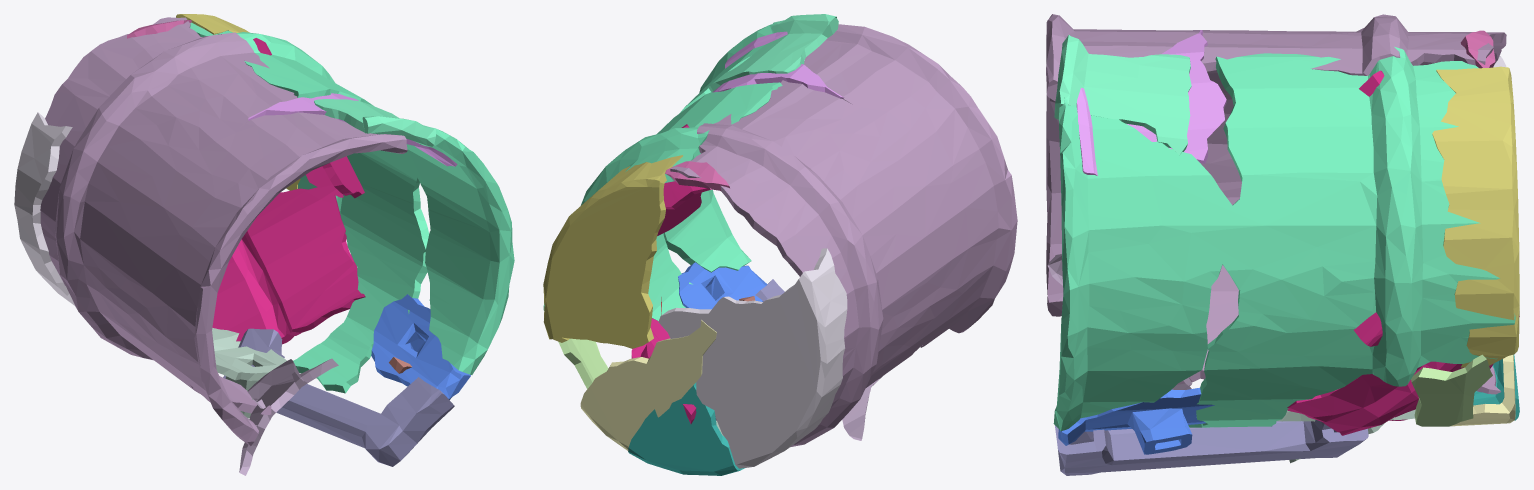
3 views of the same model, side by side, from view 1: azimuth 30°, elevation 25°; view 2: azimuth 150°, elevation 25°; view 3: azimuth 270°, elevation 25° (orthographic). The views are drawn at different scales.
Visible parts, largest first — view 1: world; view 2: world; view 3: world.
Boxes of the visible parts, x1=… form: world: x1=14, y1=14, x2=514, y2=475; world: x1=543, y1=14, x2=1017, y2=475; world: x1=1046, y1=14, x2=1519, y2=475.
Bounding box in the file's own units: 0.8558 × 0.9431 × 0.9018.
